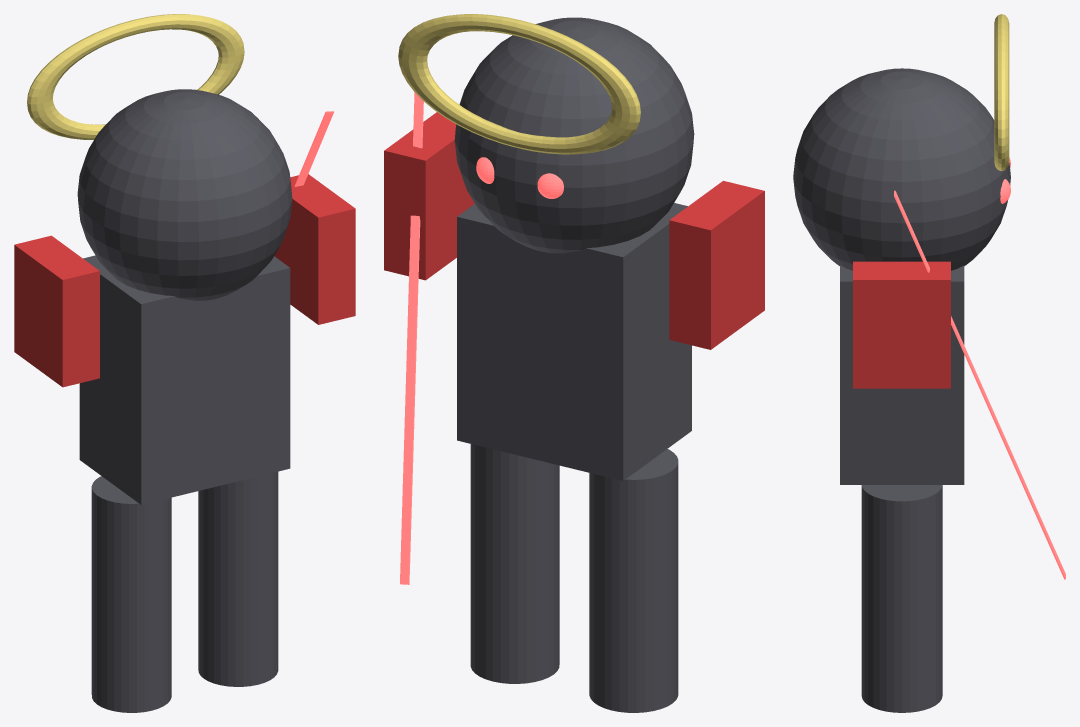
Rendered from enemy_samurai.glb.
The picture shows the model from 3 angles, left to right: view 1: azimuth 30°, elevation 25°; view 2: azimuth 150°, elevation 25°; view 3: azimuth 270°, elevation 25°; orthographic projection. The views are drawn at different scales.
Visible parts, largest first — view 1: Cube, Sphere, Cylinder, Cylinder.001, Cube.001, Cube.002, Torus, Cube.003; view 2: Cube, Sphere, Cylinder, Cylinder.001, Cube.001, Torus, Cube.002, Cube.003; view 3: Sphere, Cylinder.001, Cube, Cube.002, Torus, Cube.003.
Boxes of the visible parts, x1,y1,x2,y2 form: Cube: [79, 255, 290, 504]; Sphere: [77, 89, 292, 300]; Cylinder: [91, 476, 171, 712]; Cylinder.001: [198, 471, 278, 686]; Cube.001: [14, 235, 99, 387]; Cube.002: [274, 174, 355, 324]; Torus: [27, 14, 244, 139]; Cube.003: [294, 111, 333, 186]; Cube: [457, 203, 691, 480]; Sphere: [454, 17, 694, 253]; Cylinder: [589, 449, 678, 712]; Cylinder.001: [470, 444, 559, 683]; Cube.001: [669, 180, 764, 349]; Torus: [398, 14, 640, 154]; Cube.002: [384, 112, 474, 280]; Cube.003: [400, 92, 423, 584]; Sphere: [793, 68, 1010, 270]; Cylinder.001: [861, 485, 942, 712]; Cube: [840, 265, 964, 484]; Cube.002: [853, 261, 950, 388]; Torus: [994, 14, 1009, 171]; Cube.003: [894, 190, 1065, 579].
Bounding box in the file's own units: 1.1 × 2.25 × 0.876.
